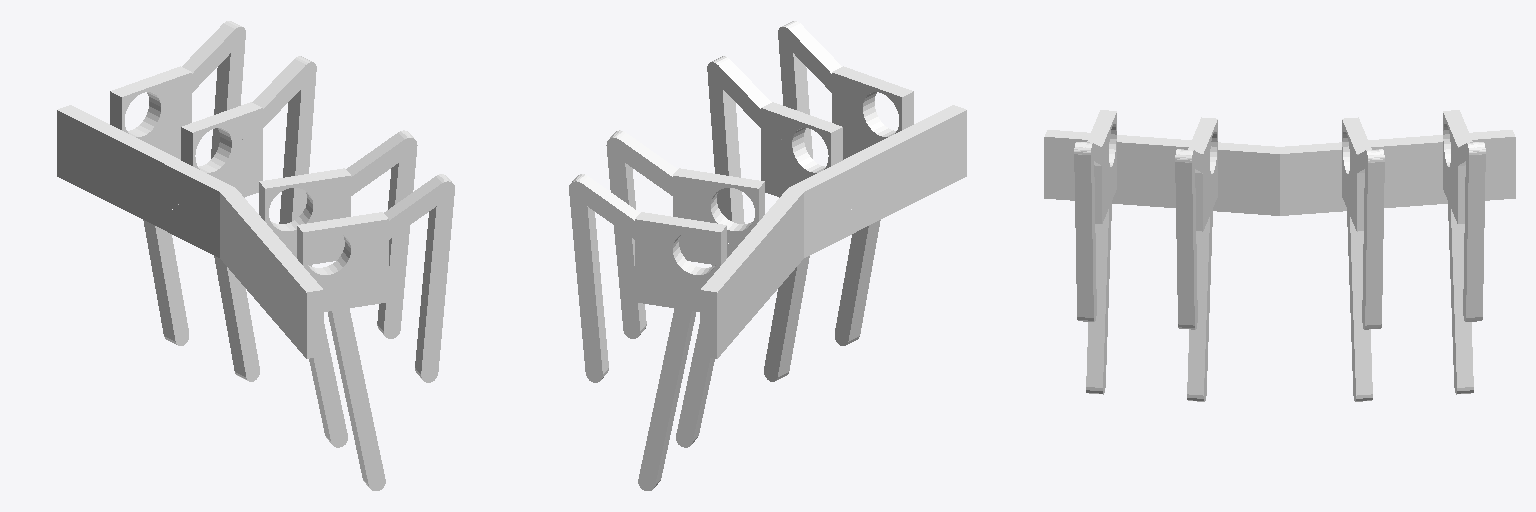
robot.urdf — leg-1.SLDASM:
<?xml version="1.0" encoding="utf-8"?>
<!-- This URDF was automatically created by SolidWorks to URDF Exporter! Originally created by [author] ([email redacted]) 
     Commit Version: 1.6.0-1-g15f4949  Build Version: 1.6.7594.29634
     For more information, please see http://wiki.ros.org/sw_urdf_exporter -->
<robot
  name="leg-1.SLDASM">
  <link
    name="base_link">
    <inertial>
      <origin
        xyz="-0.0171384175587901 -1.06523816700761E-17 -0.02"
        rpy="0 0 0" />
      <mass
        value="0.110316161412048" />
      <inertia
        ixx="0.000706985959111382"
        ixy="-1.27066246464345E-19"
        ixz="-1.20715017628286E-22"
        iyy="2.14696405216963E-05"
        iyz="-1.68225391213322E-21"
        izz="0.000698223498694423" />
    </inertial>
    <visual>
      <origin
        xyz="0 0 0"
        rpy="0 0 0" />
      <geometry>
        <mesh
          filename="package://leg-1.SLDASM/meshes/base_link.STL" />
      </geometry>
      <material
        name="">
        <color
          rgba="1 1 1 1" />
      </material>
    </visual>
    <collision>
      <origin
        xyz="0 0 0"
        rpy="0 0 0" />
      <geometry>
        <mesh
          filename="package://leg-1.SLDASM/meshes/base_link.STL" />
      </geometry>
    </collision>
  </link>
  <link
    name="R_R_L_0">
    <inertial>
      <origin
        xyz="0.0257493827595056 0.00454031091709023 0.0116723427413014"
        rpy="0 0 0" />
      <mass
        value="0.0192834164570765" />
      <inertia
        ixx="4.50446744073723E-06"
        ixy="-8.33699937468148E-07"
        ixz="-7.537042993133E-07"
        iyy="9.08561094632613E-06"
        iyz="-1.32898403444902E-07"
        izz="5.19320342326027E-06" />
    </inertial>
    <visual>
      <origin
        xyz="0 0 0"
        rpy="0 0 0" />
      <geometry>
        <mesh
          filename="package://leg-1.SLDASM/meshes/R_R_L_0.STL" />
      </geometry>
      <material
        name="">
        <color
          rgba="1 1 1 1" />
      </material>
    </visual>
    <collision>
      <origin
        xyz="0 0 0"
        rpy="0 0 0" />
      <geometry>
        <mesh
          filename="package://leg-1.SLDASM/meshes/R_R_L_0.STL" />
      </geometry>
    </collision>
  </link>
  <joint
    name="R_R_J_0"
    type="continuous">
    <origin
      xyz="-0.0176710063554285 0.10021725707789 -0.02"
      rpy="0 0 0" />
    <parent
      link="base_link" />
    <child
      link="R_R_L_0" />
    <axis
      xyz="-0.984807753012208 -0.173648177666931 0" />
  </joint>
  <link
    name="R_R_L_1">
    <inertial>
      <origin
        xyz="5.55111512312578E-17 -0.06 6.93889390390723E-18"
        rpy="0 0 0" />
      <mass
        value="0.0130411061266654" />
      <inertia
        ixx="1.78879958825788E-05"
        ixy="1.45794718865534E-20"
        ixz="2.11758236813575E-22"
        iyy="2.15682797680537E-07"
        iyz="1.29040175558272E-22"
        izz="1.7889664853676E-05" />
    </inertial>
    <visual>
      <origin
        xyz="0 0 0"
        rpy="0 0 0" />
      <geometry>
        <mesh
          filename="package://leg-1.SLDASM/meshes/R_R_L_1.STL" />
      </geometry>
      <material
        name="">
        <color
          rgba="1 1 1 1" />
      </material>
    </visual>
    <collision>
      <origin
        xyz="0 0 0"
        rpy="0 0 0" />
      <geometry>
        <mesh
          filename="package://leg-1.SLDASM/meshes/R_R_L_1.STL" />
      </geometry>
    </collision>
  </link>
  <joint
    name="R_R_J_1"
    type="continuous">
    <origin
      xyz="0.0196961550602442 0.00347296355333863 0"
      rpy="1.37613428041123 0 1.74532925199433" />
    <parent
      link="R_R_L_0" />
    <child
      link="R_R_L_1" />
    <axis
      xyz="1 0 0" />
  </joint>
  <link
    name="R_R_L_2">
    <inertial>
      <origin
        xyz="-1.38777878078145E-17 -0.025 1.04083408558608E-17"
        rpy="0 0 0" />
      <mass
        value="0.0059011061266654" />
      <inertia
        ixx="1.70070515574919E-06"
        ixy="4.29306737915021E-22"
        ixz="2.64697796016969E-23"
        iyy="9.66827976805372E-08"
        iyz="4.83073477730968E-22"
        izz="1.70237412684641E-06" />
    </inertial>
    <visual>
      <origin
        xyz="0 0 0"
        rpy="0 0 0" />
      <geometry>
        <mesh
          filename="package://leg-1.SLDASM/meshes/R_R_L_2.STL" />
      </geometry>
      <material
        name="">
        <color
          rgba="1 1 1 1" />
      </material>
    </visual>
    <collision>
      <origin
        xyz="0 0 0"
        rpy="0 0 0" />
      <geometry>
        <mesh
          filename="package://leg-1.SLDASM/meshes/R_R_L_2.STL" />
      </geometry>
    </collision>
  </link>
  <joint
    name="R_R_J_2"
    type="continuous">
    <origin
      xyz="0.0393923101204884 0.00694592710667724 0.0275"
      rpy="-0.520986330941079 0 1.74532925199433" />
    <parent
      link="R_R_L_0" />
    <child
      link="R_R_L_2" />
    <axis
      xyz="1 0 0" />
  </joint>
  <link
    name="R_R_L_3">
    <inertial>
      <origin
        xyz="8.32667268468867E-17 -0.055 -4.16333634234434E-17"
        rpy="0 0 0" />
      <mass
        value="0.0120211061266654" />
      <inertia
        ixx="1.40273598597462E-05"
        ixy="1.34758061542545E-20"
        ixz="-2.11758236813575E-22"
        iyy="1.98682797680537E-07"
        iyz="3.36331637064061E-21"
        izz="1.40290288308434E-05" />
    </inertial>
    <visual>
      <origin
        xyz="0 0 0"
        rpy="0 0 0" />
      <geometry>
        <mesh
          filename="package://leg-1.SLDASM/meshes/R_R_L_3.STL" />
      </geometry>
      <material
        name="">
        <color
          rgba="1 1 1 1" />
      </material>
    </visual>
    <collision>
      <origin
        xyz="0 0 0"
        rpy="0 0 0" />
      <geometry>
        <mesh
          filename="package://leg-1.SLDASM/meshes/R_R_L_3.STL" />
      </geometry>
    </collision>
  </link>
  <joint
    name="R_R_J_3"
    type="continuous">
    <origin
      xyz="0 -0.05 0"
      rpy="2.18071721696479 0 0" />
    <parent
      link="R_R_L_2" />
    <child
      link="R_R_L_3" />
    <axis
      xyz="1 0 0" />
  </joint>
  <link
    name="R_L_L_0">
    <inertial>
      <origin
        xyz="0.0257493827595056 0.00454031091709024 0.0116723427413014"
        rpy="0 0 0" />
      <mass
        value="0.0192834164570765" />
      <inertia
        ixx="4.50446744073722E-06"
        ixy="-8.33699937468146E-07"
        ixz="-7.53704299313296E-07"
        iyy="9.08561094632612E-06"
        iyz="-1.32898403444901E-07"
        izz="5.19320342326026E-06" />
    </inertial>
    <visual>
      <origin
        xyz="0 0 0"
        rpy="0 0 0" />
      <geometry>
        <mesh
          filename="package://leg-1.SLDASM/meshes/R_L_L_0.STL" />
      </geometry>
      <material
        name="">
        <color
          rgba="1 1 1 1" />
      </material>
    </visual>
    <collision>
      <origin
        xyz="0 0 0"
        rpy="0 0 0" />
      <geometry>
        <mesh
          filename="package://leg-1.SLDASM/meshes/R_L_L_0.STL" />
      </geometry>
    </collision>
  </link>
  <joint
    name="R_L_J_0"
    type="continuous">
    <origin
      xyz="-0.00725211569541263 0.0411287918971577 -0.02"
      rpy="0 0 0" />
    <parent
      link="base_link" />
    <child
      link="R_L_L_0" />
    <axis
      xyz="-0.984807753012208 -0.173648177666931 0" />
  </joint>
  <link
    name="R_L_L_1">
    <inertial>
      <origin
        xyz="-6.93889390390723E-18 -0.06 -1.04083408558608E-17"
        rpy="0 0 0" />
      <mass
        value="0.0130411061266654" />
      <inertia
        ixx="1.78879958825787E-05"
        ixy="6.29236291969088E-21"
        ixz="2.11758236813575E-22"
        iyy="2.15682797680537E-07"
        iyz="-1.49223382504566E-21"
        izz="1.7889664853676E-05" />
    </inertial>
    <visual>
      <origin
        xyz="0 0 0"
        rpy="0 0 0" />
      <geometry>
        <mesh
          filename="package://leg-1.SLDASM/meshes/R_L_L_1.STL" />
      </geometry>
      <material
        name="">
        <color
          rgba="1 1 1 1" />
      </material>
    </visual>
    <collision>
      <origin
        xyz="0 0 0"
        rpy="0 0 0" />
      <geometry>
        <mesh
          filename="package://leg-1.SLDASM/meshes/R_L_L_1.STL" />
      </geometry>
    </collision>
  </link>
  <joint
    name="R_L_J_1"
    type="continuous">
    <origin
      xyz="0.0196961550602442 0.00347296355333863 0"
      rpy="1.37613428041123 0 1.74532925199433" />
    <parent
      link="R_L_L_0" />
    <child
      link="R_L_L_1" />
    <axis
      xyz="1 0 0" />
  </joint>
  <link
    name="R_L_L_2">
    <inertial>
      <origin
        xyz="-2.77555756156289E-17 -0.025 5.20417042793042E-18"
        rpy="0 0 0" />
      <mass
        value="0.0059011061266654" />
      <inertia
        ixx="1.70070515574919E-06"
        ixy="2.01004888850386E-22"
        ixz="0"
        iyy="9.66827976805372E-08"
        iyz="-3.63959469523332E-23"
        izz="1.70237412684641E-06" />
    </inertial>
    <visual>
      <origin
        xyz="0 0 0"
        rpy="0 0 0" />
      <geometry>
        <mesh
          filename="package://leg-1.SLDASM/meshes/R_L_L_2.STL" />
      </geometry>
      <material
        name="">
        <color
          rgba="1 1 1 1" />
      </material>
    </visual>
    <collision>
      <origin
        xyz="0 0 0"
        rpy="0 0 0" />
      <geometry>
        <mesh
          filename="package://leg-1.SLDASM/meshes/R_L_L_2.STL" />
      </geometry>
    </collision>
  </link>
  <joint
    name="R_L_J_2"
    type="continuous">
    <origin
      xyz="0.0393923101204883 0.00694592710667723 0.0275"
      rpy="-0.52098633094108 0 1.74532925199433" />
    <parent
      link="R_L_L_0" />
    <child
      link="R_L_L_2" />
    <axis
      xyz="1 0 0" />
  </joint>
  <link
    name="R_L_L_3">
    <inertial>
      <origin
        xyz="-2.77555756156289E-17 -0.055 -1.38777878078145E-17"
        rpy="0 0 0" />
      <mass
        value="0.0120211061266654" />
      <inertia
        ixx="1.40273598597462E-05"
        ixy="4.26308208194517E-21"
        ixz="-2.11758236813575E-22"
        iyy="1.98682797680537E-07"
        iyz="-4.4800101975872E-21"
        izz="1.40290288308434E-05" />
    </inertial>
    <visual>
      <origin
        xyz="0 0 0"
        rpy="0 0 0" />
      <geometry>
        <mesh
          filename="package://leg-1.SLDASM/meshes/R_L_L_3.STL" />
      </geometry>
      <material
        name="">
        <color
          rgba="1 1 1 1" />
      </material>
    </visual>
    <collision>
      <origin
        xyz="0 0 0"
        rpy="0 0 0" />
      <geometry>
        <mesh
          filename="package://leg-1.SLDASM/meshes/R_L_L_3.STL" />
      </geometry>
    </collision>
  </link>
  <joint
    name="R_L_J_3"
    type="continuous">
    <origin
      xyz="0 -0.05 0"
      rpy="2.18071721696479 0 0" />
    <parent
      link="R_L_L_2" />
    <child
      link="R_L_L_3" />
    <axis
      xyz="1 0 0" />
  </joint>
  <link
    name="L_R_L_0">
    <inertial>
      <origin
        xyz="0.0257493827595055 -0.00454031091709022 0.0116723427413014"
        rpy="0 0 0" />
      <mass
        value="0.0192834164570765" />
      <inertia
        ixx="4.50446744073723E-06"
        ixy="8.33699937468144E-07"
        ixz="-7.53704299313302E-07"
        iyy="9.08561094632614E-06"
        iyz="1.32898403444907E-07"
        izz="5.19320342326027E-06" />
    </inertial>
    <visual>
      <origin
        xyz="0 0 0"
        rpy="0 0 0" />
      <geometry>
        <mesh
          filename="package://leg-1.SLDASM/meshes/L_R_L_0.STL" />
      </geometry>
      <material
        name="">
        <color
          rgba="1 1 1 1" />
      </material>
    </visual>
    <collision>
      <origin
        xyz="0 0 0"
        rpy="0 0 0" />
      <geometry>
        <mesh
          filename="package://leg-1.SLDASM/meshes/L_R_L_0.STL" />
      </geometry>
    </collision>
  </link>
  <joint
    name="L_R_J_0"
    type="continuous">
    <origin
      xyz="-0.00725211569541258 -0.0411287918971576 -0.02"
      rpy="0 0 0" />
    <parent
      link="base_link" />
    <child
      link="L_R_L_0" />
    <axis
      xyz="-0.984807753012208 0.17364817766693 0" />
  </joint>
  <link
    name="L_R_L_1">
    <inertial>
      <origin
        xyz="-6.93889390390723E-18 -0.06 -2.08166817117217E-17"
        rpy="0 0 0" />
      <mass
        value="0.0130411061266654" />
      <inertia
        ixx="1.78879958825787E-05"
        ixy="9.43730360861749E-21"
        ixz="4.2351647362715E-22"
        iyy="2.15682797680537E-07"
        iyz="-5.4097612060968E-21"
        izz="1.7889664853676E-05" />
    </inertial>
    <visual>
      <origin
        xyz="0 0 0"
        rpy="0 0 0" />
      <geometry>
        <mesh
          filename="package://leg-1.SLDASM/meshes/L_R_L_1.STL" />
      </geometry>
      <material
        name="">
        <color
          rgba="1 1 1 1" />
      </material>
    </visual>
    <collision>
      <origin
        xyz="0 0 0"
        rpy="0 0 0" />
      <geometry>
        <mesh
          filename="package://leg-1.SLDASM/meshes/L_R_L_1.STL" />
      </geometry>
    </collision>
  </link>
  <joint
    name="L_R_J_1"
    type="continuous">
    <origin
      xyz="0.0196961550602441 -0.00347296355333859 0"
      rpy="1.37613428041123 0 1.39626340159546" />
    <parent
      link="L_R_L_0" />
    <child
      link="L_R_L_1" />
    <axis
      xyz="1 0 0" />
  </joint>
  <link
    name="L_R_L_2">
    <inertial>
      <origin
        xyz="-3.46944695195361E-17 -0.025 -3.46944695195361E-18"
        rpy="0 0 0" />
      <mass
        value="0.0059011061266654" />
      <inertia
        ixx="1.70070515574919E-06"
        ixy="-2.52290086828673E-22"
        ixz="3.97046694025453E-23"
        iyy="9.66827976805371E-08"
        iyz="-2.87858853168454E-22"
        izz="1.70237412684641E-06" />
    </inertial>
    <visual>
      <origin
        xyz="0 0 0"
        rpy="0 0 0" />
      <geometry>
        <mesh
          filename="package://leg-1.SLDASM/meshes/L_R_L_2.STL" />
      </geometry>
      <material
        name="">
        <color
          rgba="1 1 1 1" />
      </material>
    </visual>
    <collision>
      <origin
        xyz="0 0 0"
        rpy="0 0 0" />
      <geometry>
        <mesh
          filename="package://leg-1.SLDASM/meshes/L_R_L_2.STL" />
      </geometry>
    </collision>
  </link>
  <joint
    name="L_R_J_2"
    type="continuous">
    <origin
      xyz="0.0393923101204883 -0.00694592710667721 0.0275"
      rpy="-0.520986330941079 0 1.39626340159546" />
    <parent
      link="L_R_L_0" />
    <child
      link="L_R_L_2" />
    <axis
      xyz="1 0 0" />
  </joint>
  <link
    name="L_R_L_3">
    <inertial>
      <origin
        xyz="0 -0.0550000000000001 -2.77555756156289E-17"
        rpy="0 0 0" />
      <mass
        value="0.0120211061266654" />
      <inertia
        ixx="1.40273598597462E-05"
        ixy="5.55927410181576E-21"
        ixz="-6.35274710440725E-22"
        iyy="1.98682797680537E-07"
        iyz="-6.85567291683949E-21"
        izz="1.40290288308434E-05" />
    </inertial>
    <visual>
      <origin
        xyz="0 0 0"
        rpy="0 0 0" />
      <geometry>
        <mesh
          filename="package://leg-1.SLDASM/meshes/L_R_L_3.STL" />
      </geometry>
      <material
        name="">
        <color
          rgba="1 1 1 1" />
      </material>
    </visual>
    <collision>
      <origin
        xyz="0 0 0"
        rpy="0 0 0" />
      <geometry>
        <mesh
          filename="package://leg-1.SLDASM/meshes/L_R_L_3.STL" />
      </geometry>
    </collision>
  </link>
  <joint
    name="L_R_J_3"
    type="continuous">
    <origin
      xyz="0 -0.05 0"
      rpy="2.18071721696479 0 0" />
    <parent
      link="L_R_L_2" />
    <child
      link="L_R_L_3" />
    <axis
      xyz="1 0 0" />
  </joint>
  <link
    name="L_L_L_0">
    <inertial>
      <origin
        xyz="0.0257493827595055 -0.00454031091709022 0.0116723427413014"
        rpy="0 0 0" />
      <mass
        value="0.0192834164570765" />
      <inertia
        ixx="4.50446744073722E-06"
        ixy="8.33699937468142E-07"
        ixz="-7.53704299313298E-07"
        iyy="9.08561094632612E-06"
        iyz="1.32898403444905E-07"
        izz="5.19320342326026E-06" />
    </inertial>
    <visual>
      <origin
        xyz="0 0 0"
        rpy="0 0 0" />
      <geometry>
        <mesh
          filename="package://leg-1.SLDASM/meshes/L_L_L_0.STL" />
      </geometry>
      <material
        name="">
        <color
          rgba="1 1 1 1" />
      </material>
    </visual>
    <collision>
      <origin
        xyz="0 0 0"
        rpy="0 0 0" />
      <geometry>
        <mesh
          filename="package://leg-1.SLDASM/meshes/L_L_L_0.STL" />
      </geometry>
    </collision>
  </link>
  <joint
    name="L_L_J_0"
    type="continuous">
    <origin
      xyz="-0.0176710063554284 -0.10021725707789 -0.02"
      rpy="0 0 0" />
    <parent
      link="base_link" />
    <child
      link="L_L_L_0" />
    <axis
      xyz="-0.984807753012208 0.17364817766693 0" />
  </joint>
  <link
    name="L_L_L_1">
    <inertial>
      <origin
        xyz="4.16333634234434E-17 -0.06 -1.04083408558608E-17"
        rpy="0 0 0" />
      <mass
        value="0.0130411061266654" />
      <inertia
        ixx="1.78879958825787E-05"
        ixy="1.26724069843124E-21"
        ixz="-2.11758236813575E-22"
        iyy="2.15682797680537E-07"
        iyz="-1.84957584966857E-21"
        izz="1.7889664853676E-05" />
    </inertial>
    <visual>
      <origin
        xyz="0 0 0"
        rpy="0 0 0" />
      <geometry>
        <mesh
          filename="package://leg-1.SLDASM/meshes/L_L_L_1.STL" />
      </geometry>
      <material
        name="">
        <color
          rgba="1 1 1 1" />
      </material>
    </visual>
    <collision>
      <origin
        xyz="0 0 0"
        rpy="0 0 0" />
      <geometry>
        <mesh
          filename="package://leg-1.SLDASM/meshes/L_L_L_1.STL" />
      </geometry>
    </collision>
  </link>
  <joint
    name="L_L_J_1"
    type="continuous">
    <origin
      xyz="0.0196961550602441 -0.00347296355333859 0"
      rpy="1.37613428041123 0 1.39626340159546" />
    <parent
      link="L_L_L_0" />
    <child
      link="L_L_L_1" />
    <axis
      xyz="1 0 0" />
  </joint>
  <link
    name="L_L_L_2">
    <inertial>
      <origin
        xyz="9.71445146547012E-17 -0.025 1.04083408558608E-17"
        rpy="0 0 0" />
      <mass
        value="0.0059011061266654" />
      <inertia
        ixx="1.70070515574919E-06"
        ixy="3.93737971575241E-22"
        ixz="-2.64697796016969E-23"
        iyy="9.66827976805371E-08"
        iyz="2.91167575618666E-22"
        izz="1.70237412684641E-06" />
    </inertial>
    <visual>
      <origin
        xyz="0 0 0"
        rpy="0 0 0" />
      <geometry>
        <mesh
          filename="package://leg-1.SLDASM/meshes/L_L_L_2.STL" />
      </geometry>
      <material
        name="">
        <color
          rgba="1 1 1 1" />
      </material>
    </visual>
    <collision>
      <origin
        xyz="0 0 0"
        rpy="0 0 0" />
      <geometry>
        <mesh
          filename="package://leg-1.SLDASM/meshes/L_L_L_2.STL" />
      </geometry>
    </collision>
  </link>
  <joint
    name="L_L_J_2"
    type="continuous">
    <origin
      xyz="0.0393923101204882 -0.00694592710667721 0.0275"
      rpy="-0.520986330941078 0 1.39626340159546" />
    <parent
      link="L_L_L_0" />
    <child
      link="L_L_L_2" />
    <axis
      xyz="1 0 0" />
  </joint>
  <link
    name="L_L_L_3">
    <inertial>
      <origin
        xyz="4.16333634234434E-17 -0.055 -2.77555756156289E-17"
        rpy="0 0 0" />
      <mass
        value="0.0120211061266654" />
      <inertia
        ixx="1.40273598597462E-05"
        ixy="-2.47843991036201E-21"
        ixz="-6.35274710440725E-22"
        iyy="1.98682797680537E-07"
        iyz="-2.51132033971099E-21"
        izz="1.40290288308434E-05" />
    </inertial>
    <visual>
      <origin
        xyz="0 0 0"
        rpy="0 0 0" />
      <geometry>
        <mesh
          filename="package://leg-1.SLDASM/meshes/L_L_L_3.STL" />
      </geometry>
      <material
        name="">
        <color
          rgba="1 1 1 1" />
      </material>
    </visual>
    <collision>
      <origin
        xyz="0 0 0"
        rpy="0 0 0" />
      <geometry>
        <mesh
          filename="package://leg-1.SLDASM/meshes/L_L_L_3.STL" />
      </geometry>
    </collision>
  </link>
  <joint
    name="L_L_J_3"
    type="continuous">
    <origin
      xyz="0 -0.05 0"
      rpy="2.18071721696479 0 0" />
    <parent
      link="L_L_L_2" />
    <child
      link="L_L_L_3" />
    <axis
      xyz="1 0 0" />
  </joint>
</robot>

--- Facts derived from the render (not from the file) ---
The picture shows the robot from 3 angles, left to right: view 1: azimuth 30°, elevation 25°; view 2: azimuth 150°, elevation 25°; view 3: azimuth 270°, elevation 25°; orthographic projection.
Model leg-1.SLDASM with 17 links and 16 joints (16 continuous), rooted at base_link, posed all joints at 0.
Links seen in each view (by area): view 1: base_link, L_L_L_0, R_L_L_0, R_R_L_0, L_R_L_0, L_L_L_3, L_L_L_1, L_R_L_3, R_L_L_3, R_R_L_1, R_L_L_1, L_R_L_1 (+5 smaller); view 2: base_link, R_R_L_0, L_R_L_0, R_L_L_0, L_L_L_0, R_R_L_3, R_R_L_1, R_L_L_3, L_R_L_3, L_L_L_1, L_R_L_1, R_L_L_1 (+5 smaller); view 3: base_link, L_R_L_3, R_L_L_3, L_L_L_3, R_R_L_3, L_L_L_1, R_R_L_1, R_L_L_1, L_R_L_1, L_L_L_0, R_L_L_0, L_R_L_0 (+1 smaller).
Link boxes in pixels (x1,y1,x2,y2): base_link: (57, 105, 323, 358); L_L_L_0: (279, 212, 388, 311); R_L_L_0: (167, 102, 262, 209); R_R_L_0: (96, 66, 191, 173); L_R_L_0: (242, 168, 350, 264); L_L_L_3: (415, 174, 454, 382); L_L_L_1: (328, 285, 385, 490); L_R_L_3: (377, 131, 417, 338); R_L_L_3: (279, 56, 316, 223); R_R_L_1: (143, 145, 188, 345); R_L_L_1: (214, 181, 259, 381); L_R_L_1: (291, 243, 347, 447); base_link: (700, 105, 966, 358); R_R_L_0: (635, 212, 744, 311); L_R_L_0: (761, 102, 856, 209); R_L_L_0: (673, 168, 781, 264); L_L_L_0: (832, 66, 927, 173); R_R_L_3: (569, 174, 608, 382); R_R_L_1: (638, 285, 695, 490); R_L_L_3: (606, 131, 646, 338); L_R_L_3: (707, 56, 744, 223); L_L_L_1: (835, 145, 880, 345); L_R_L_1: (764, 181, 809, 381); R_L_L_1: (676, 243, 732, 447); base_link: (1044, 130, 1515, 215); L_R_L_3: (1175, 149, 1197, 329); R_L_L_3: (1362, 149, 1384, 329); L_L_L_3: (1074, 142, 1096, 321); R_R_L_3: (1463, 142, 1485, 321); L_L_L_1: (1086, 179, 1112, 394); R_R_L_1: (1447, 179, 1473, 394); R_L_L_1: (1346, 187, 1372, 401); L_R_L_1: (1187, 187, 1213, 401); L_L_L_0: (1087, 110, 1116, 223); R_L_L_0: (1342, 117, 1371, 231); L_R_L_0: (1188, 117, 1217, 231).
Bounding box of the posed robot: 0.1148 × 0.2757 × 0.1801 m (x, y, z).
17 mesh visuals loaded from 17 distinct referenced files (17 binary STL).